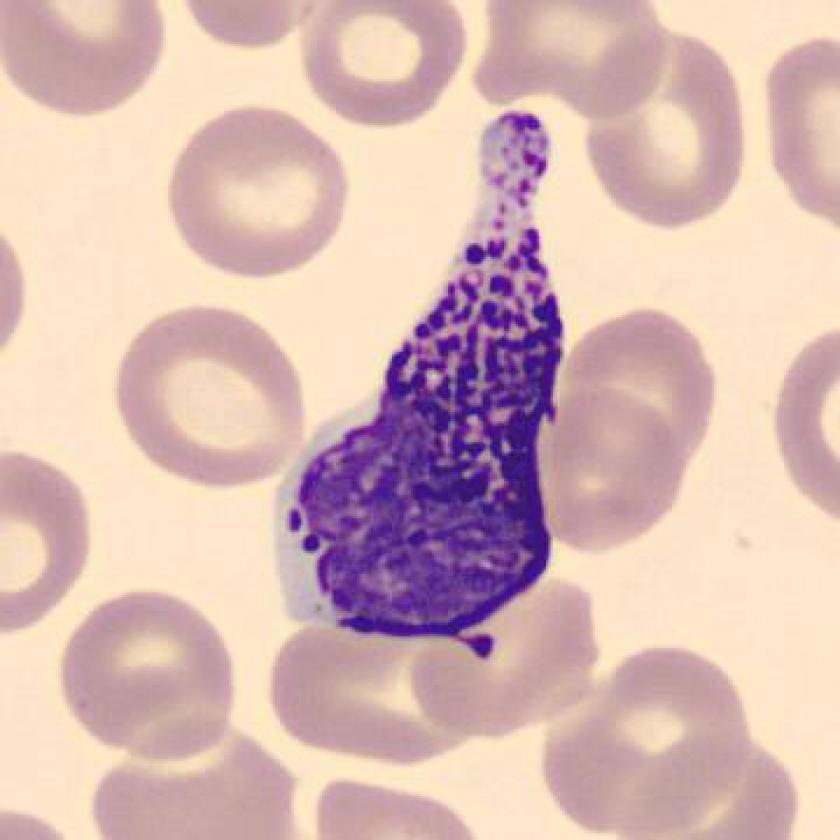basophil: (288, 182, 577, 654)
